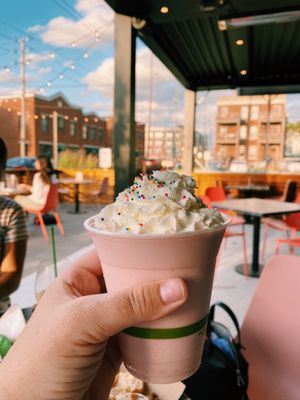curry: (204, 194, 300, 279)
pasta: (78, 178, 108, 212), (281, 180, 299, 203)
soup: (83, 168, 233, 385)
